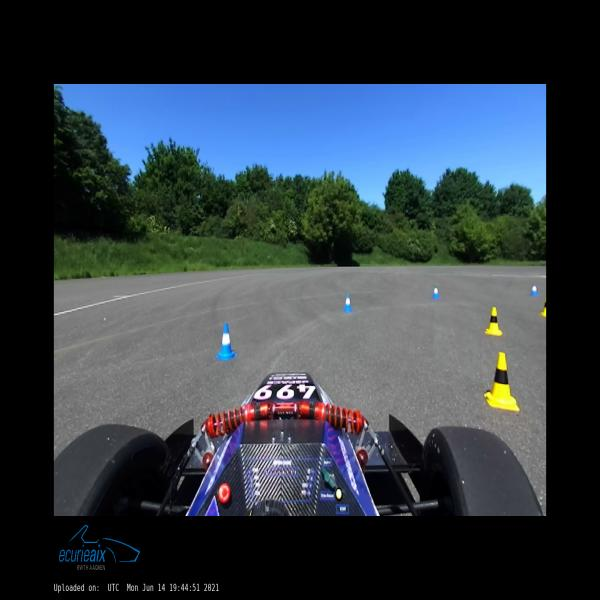blue_cone: (216, 323, 237, 360), (343, 293, 353, 312), (432, 284, 440, 299), (530, 284, 538, 296)
yellow_cone: (484, 352, 520, 412), (485, 306, 503, 337), (539, 296, 546, 318)
